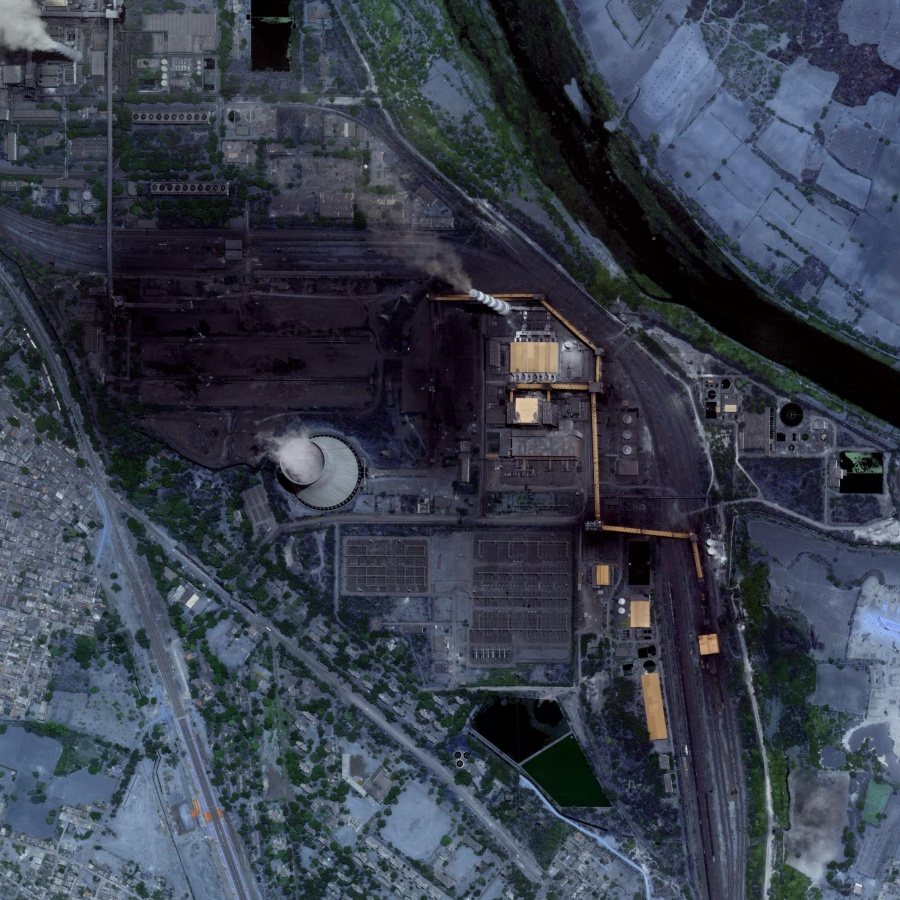PowerPlant: (78, 188, 571, 542)
